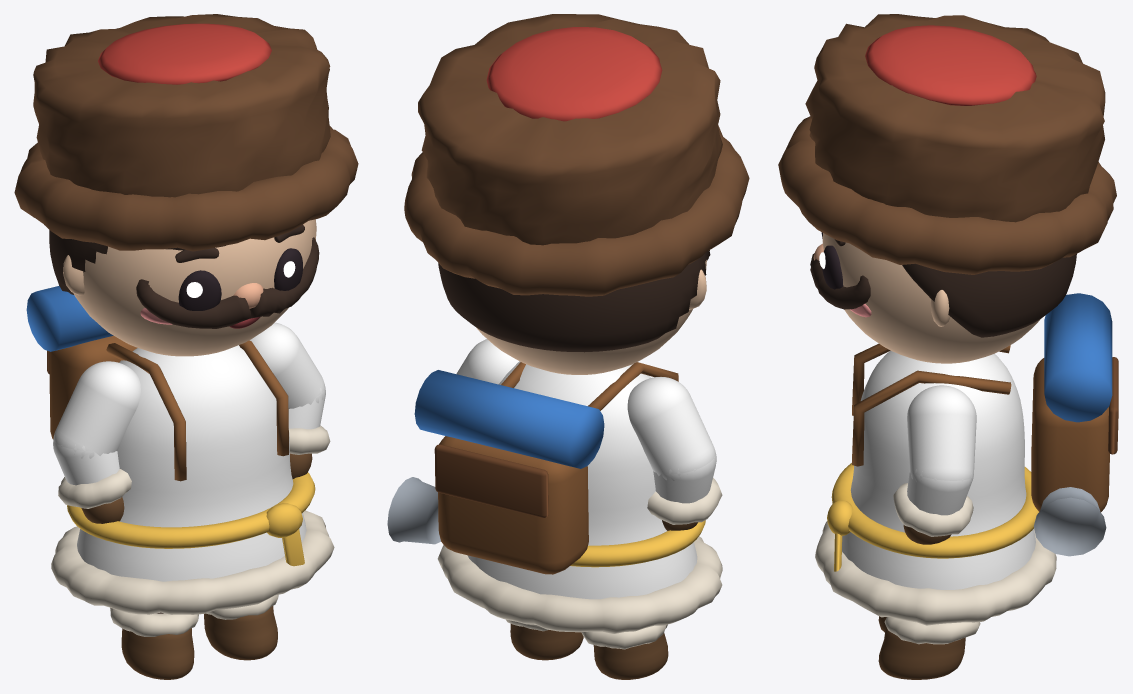
File: npc_merchant.glb
The picture shows the model from 3 angles, left to right: view 1: azimuth 30°, elevation 25°; view 2: azimuth 150°, elevation 25°; view 3: azimuth 270°, elevation 25°; orthographic projection.
Visible parts, largest first — view 1: head_body, spine_S_body, chest_S_body, uarm_R, knee_R_S_body, el_R_S_body, knee_L_S_body, uarm_L, head_eye_dot, el_L_S_body, hand_R_S_body, head_brow_neutral; view 2: head_body, chest_S_body, spine_S_body, uarm_R, knee_R_S_body, el_R_S_body, knee_L_S_body, uarm_L; view 3: head_body, spine_S_body, chest_S_body, uarm_L, knee_L_S_body, el_L_S_body, head_eye_dot.
Part boxes in pixels (x1,y1,x2,y2): head_body: (14, 14, 358, 356); spine_S_body: (51, 345, 334, 614); chest_S_body: (26, 286, 289, 481); uarm_R: (53, 361, 140, 458); knee_R_S_body: (110, 607, 198, 679); el_R_S_body: (53, 441, 131, 508); knee_L_S_body: (204, 594, 278, 660); uarm_L: (249, 322, 325, 408); head_eye_dot: (178, 248, 302, 310); el_L_S_body: (288, 384, 330, 454); hand_R_S_body: (81, 497, 124, 523); head_brow_neutral: (175, 224, 304, 262); head_body: (404, 14, 749, 374); chest_S_body: (387, 362, 678, 574); spine_S_body: (437, 361, 722, 633); uarm_R: (627, 377, 715, 480); knee_R_S_body: (581, 624, 668, 679); el_R_S_body: (647, 454, 722, 524); knee_L_S_body: (506, 619, 583, 660); uarm_L: (456, 339, 519, 384); head_body: (778, 14, 1116, 363); spine_S_body: (815, 350, 1056, 625); chest_S_body: (852, 293, 1118, 556); uarm_L: (907, 385, 976, 482); knee_L_S_body: (878, 617, 980, 679); el_L_S_body: (893, 469, 973, 536); head_eye_dot: (819, 232, 843, 289).
Size of what is drawn, in the model's own units: 0.7864 by 1.54 by 0.7864.
